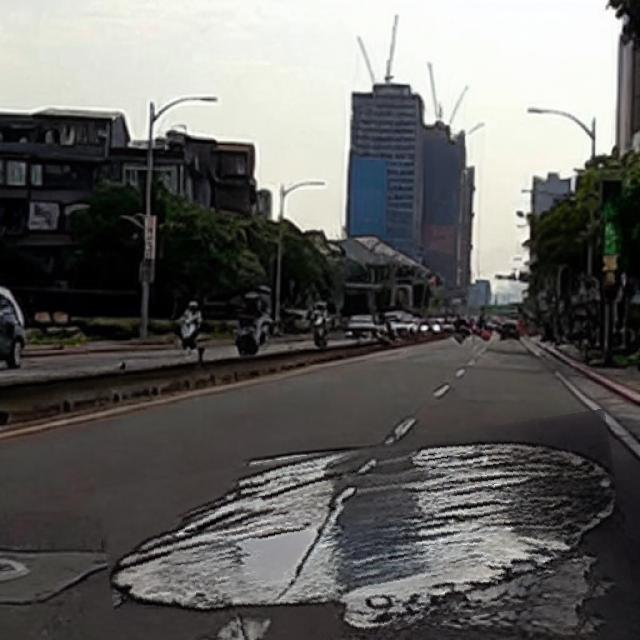puddle: (102, 428, 629, 640)
